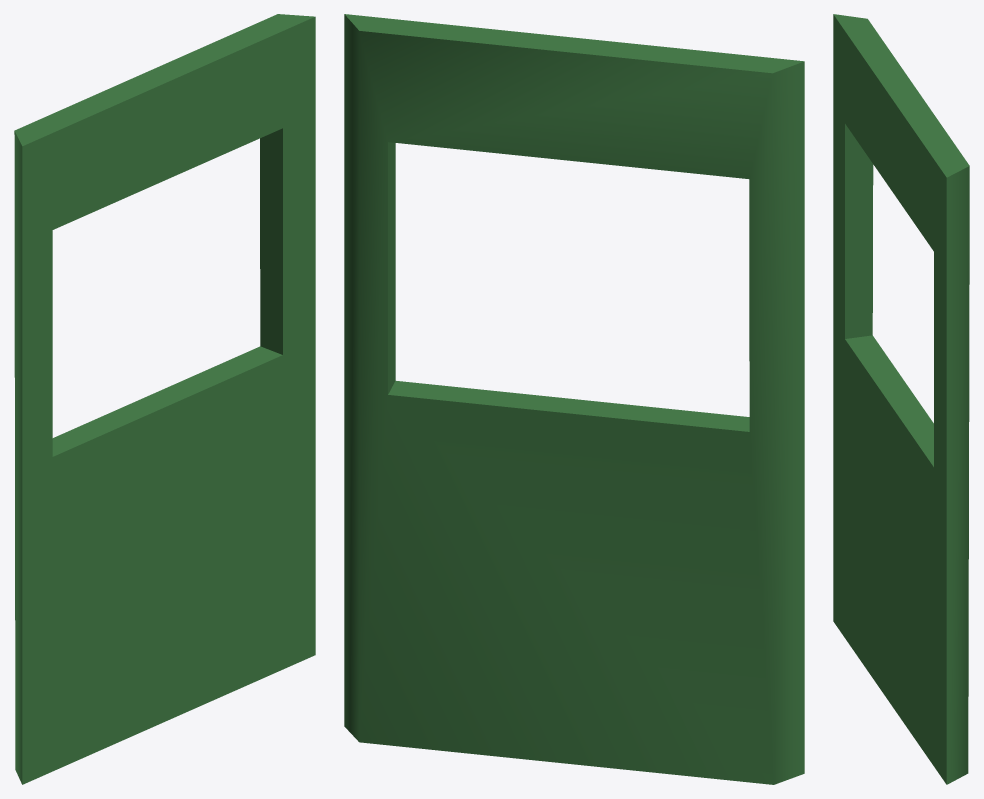
Rendered from room wall window.fbx.
3 renders of one model, left to right at view 1: azimuth 30°, elevation 25°; view 2: azimuth 150°, elevation 25°; view 3: azimuth 270°, elevation 25°, orthographic. The views are drawn at different scales.
Visible parts, largest first — view 1: polySurface162; view 2: polySurface162; view 3: polySurface162.
Part boxes in pixels (bbox=[...]): polySurface162: bbox=[14, 14, 315, 784]; polySurface162: bbox=[344, 14, 804, 784]; polySurface162: bbox=[833, 14, 969, 784].
Size of the model in its own units: 4.53 by 7.83 by 1.6.
